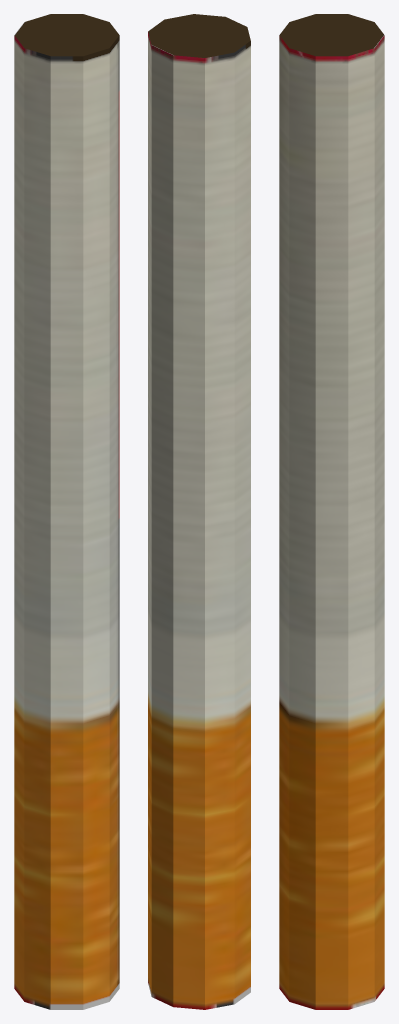
File: cigorro.fbx
3 views of the same model, side by side, from view 1: azimuth 90°, elevation 25°; view 2: azimuth 150°, elevation 25°; view 3: azimuth 270°, elevation 25° (orthographic).
Visible parts, largest first — view 1: Cylinder; view 2: Cylinder; view 3: Cylinder.
Part boxes in pixels (box(x1,y1,x2,y2)): Cylinder: box(14, 14, 119, 1009); Cylinder: box(148, 14, 250, 1009); Cylinder: box(279, 14, 384, 1009).
Size of the model in its own units: 25.85 by 272 by 27.18.
